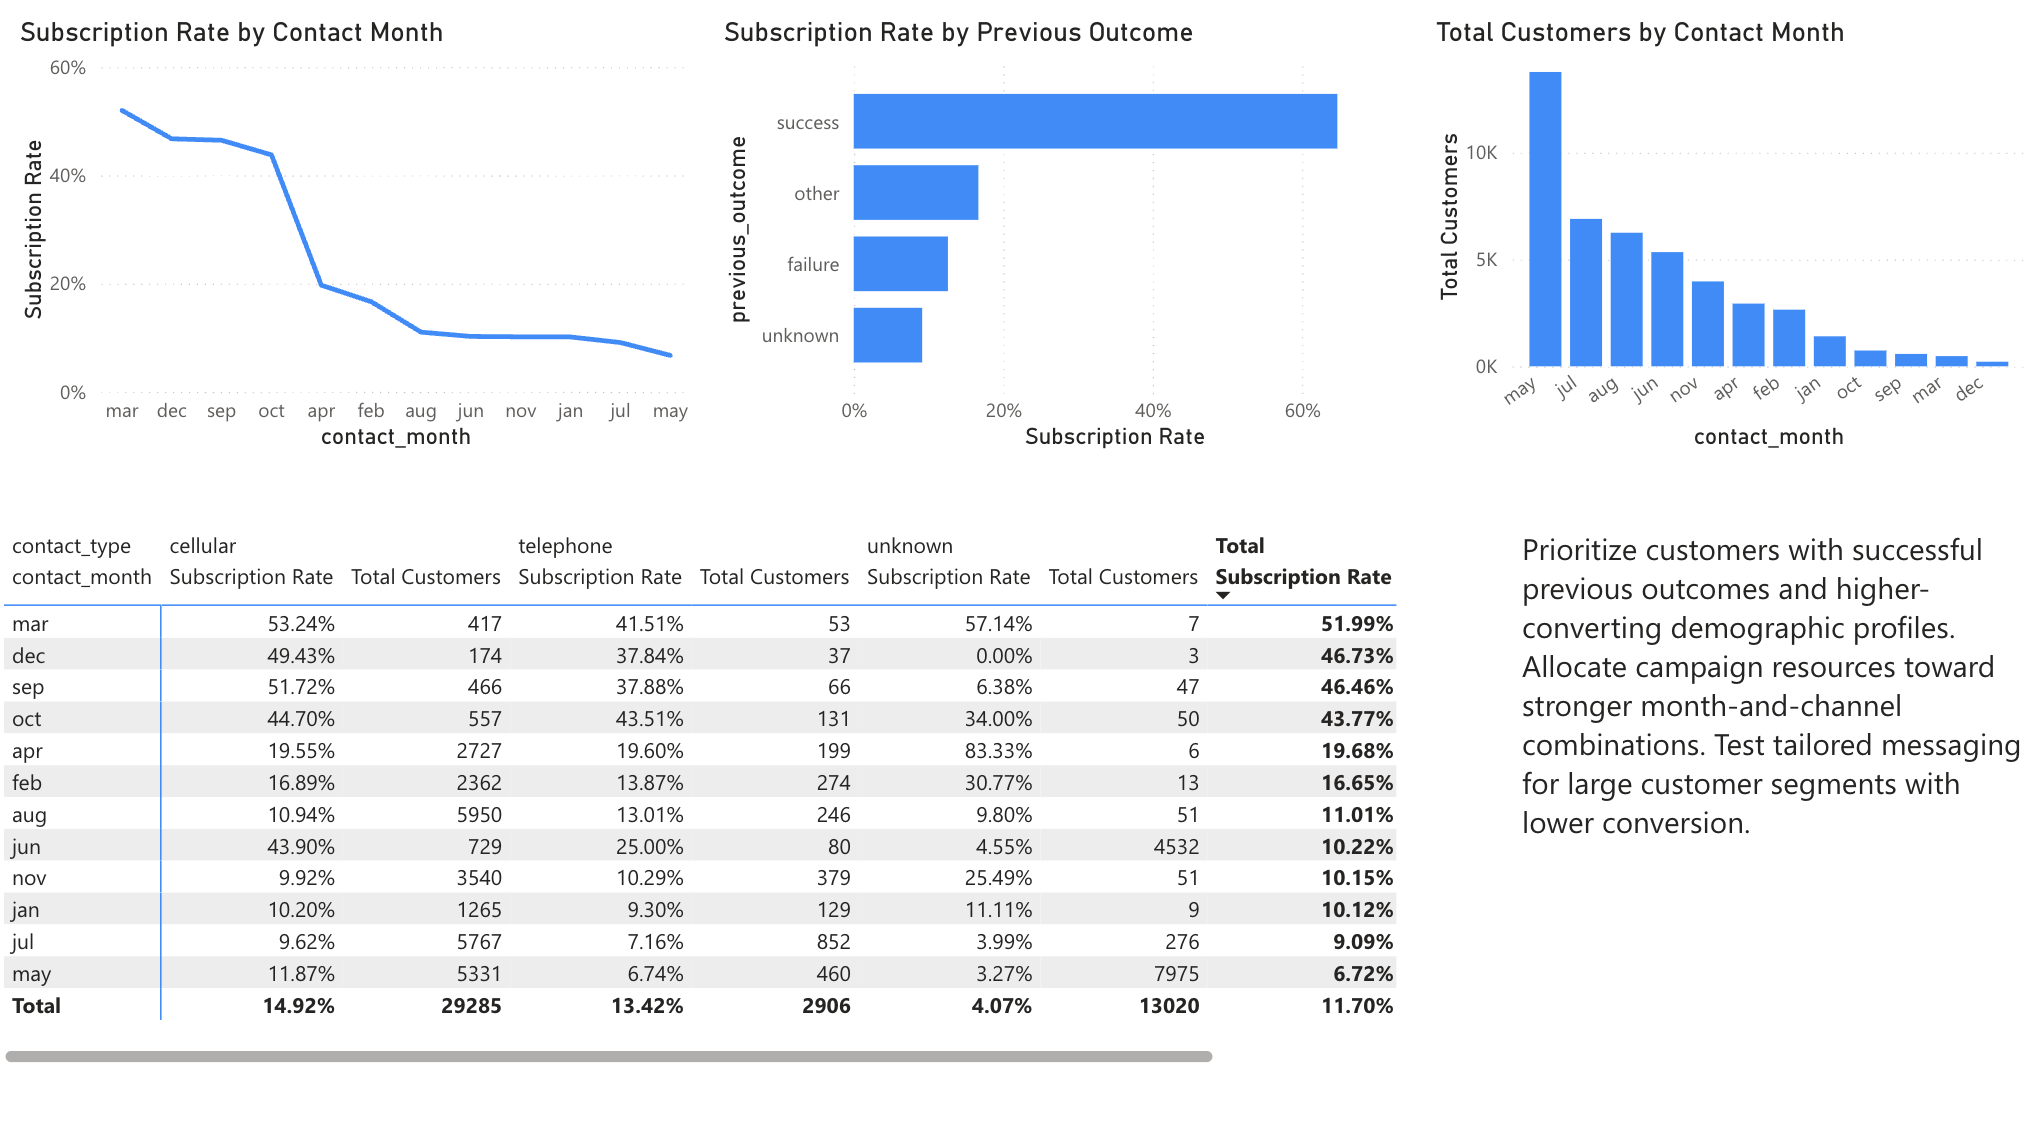

What the dashboard file says about the page in this screenshot:
{"tool":"powerbi","page":{"name":"Campaign Performance","canvas":[1280,720],"ordinal":2},"visuals":[{"type":"lineChart","title":"Subscription Rate by Contact Month","fields":{"Category":["bank_campaign_dashboard.contact_month"],"Y":["bank_campaign_dashboard.Subscription Rate"]},"box":[10,12.6,432,274],"z":2},{"type":"clusteredBarChart","title":"Subscription Rate by Previous Outcome","fields":{"Category":["bank_campaign_dashboard.previous_outcome"],"Y":["bank_campaign_dashboard.Subscription Rate"]},"box":[452.2,12.6,432,274],"z":3},{"type":"clusteredColumnChart","title":"Total Customers by Contact Month","fields":{"Category":["bank_campaign_dashboard.contact_month"],"Y":["bank_campaign_dashboard.Total Customers"]},"box":[899.4,12.6,380,274],"z":4},{"type":"pivotTable","fields":{"Columns":["bank_campaign_dashboard.contact_type"],"Rows":["bank_campaign_dashboard.contact_month"],"Values":["bank_campaign_dashboard.Subscription Rate","bank_campaign_dashboard.Total Customers"]},"box":[0,326.6,884.3,346.7],"z":5},{"type":"textbox","box":[953.4,326.6,325.3,347.9],"z":6}]}

Visuals, with their boxes in screenshot pixels (x1, y1, x2, y2), scaled from the page's 1280x720 canvas onto the 2034x1140 screenshot:
"Subscription Rate by Contact Month" lineChart: locate(16, 20, 702, 454)
"Subscription Rate by Previous Outcome" clusteredBarChart: locate(719, 20, 1405, 454)
"Total Customers by Contact Month" clusteredColumnChart: locate(1429, 20, 2033, 454)
pivotTable - bank_campaign_dashboard.contact_type x bank_campaign_dashboard.contact_month: locate(0, 517, 1405, 1066)
textbox: locate(1515, 517, 2032, 1068)
